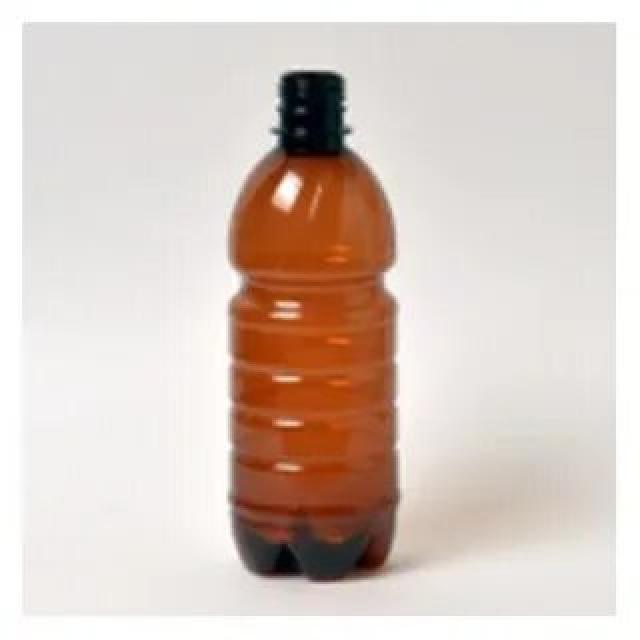brown: (230, 70, 398, 580)
